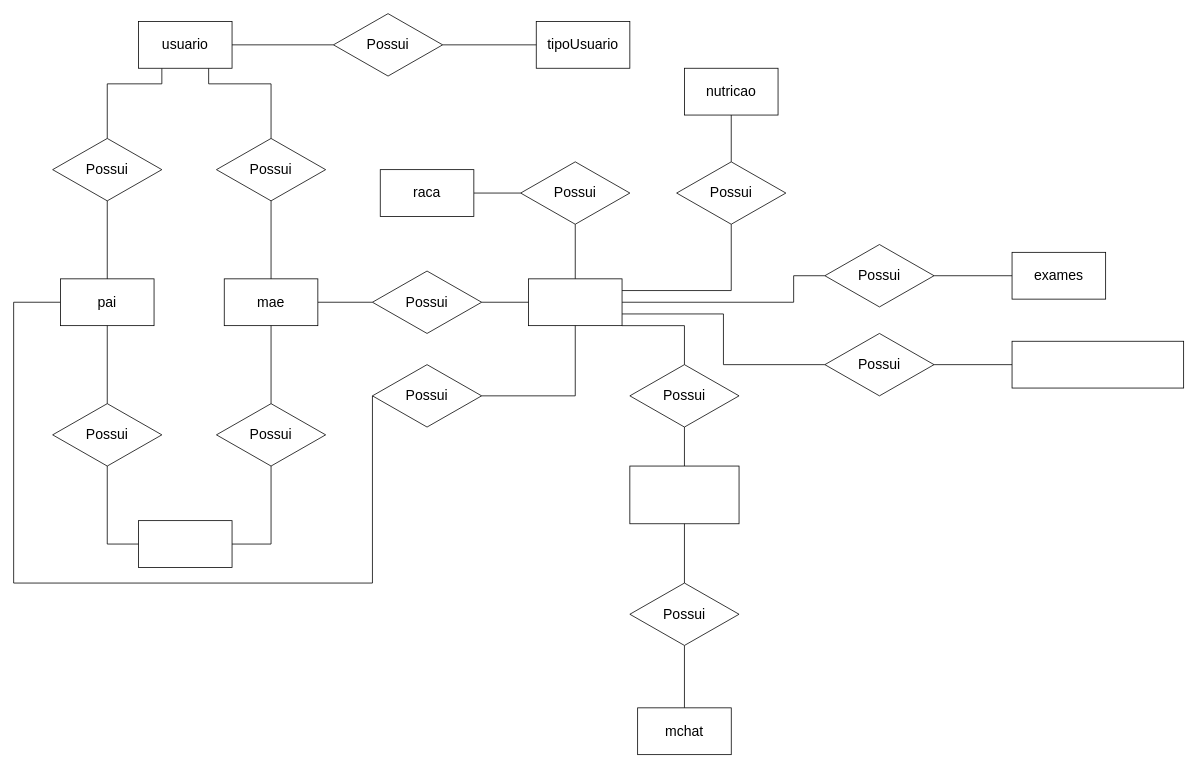
The diagram is 1197 pixels wide and 768 high, and some of its shapes have lost their labels. Each missing label, with the centre of its shape:
crianca: (575,302)
endereco: (185,543)
marcoCrianca: (684,494)
medAntropometricas: (1097,364)
